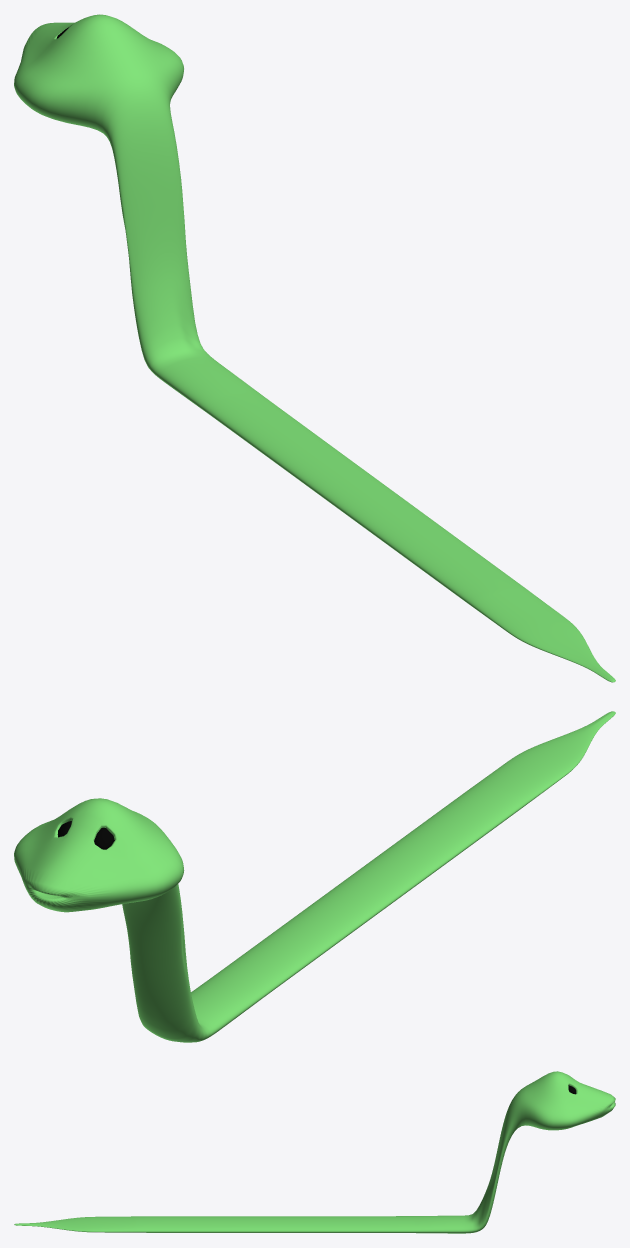
Rendered from ular.fbx.
3 views of the same model, one above another, from view 1: azimuth 30°, elevation 25°; view 2: azimuth 150°, elevation 25°; view 3: azimuth 270°, elevation 25° (orthographic). The views are drawn at different scales.
Parts seen in each view (by area): view 1: pasted__pCylinder2; view 2: pasted__pCylinder2; view 3: pasted__pCylinder2.
Boxes of the visible parts, box(x1,y1,x2,y2) form: pasted__pCylinder2: box(14, 14, 615, 682); pasted__pCylinder2: box(14, 711, 615, 1042); pasted__pCylinder2: box(14, 1071, 615, 1233).
Bounding box in the file's own units: 1.28 × 2.38 × 8.27.
